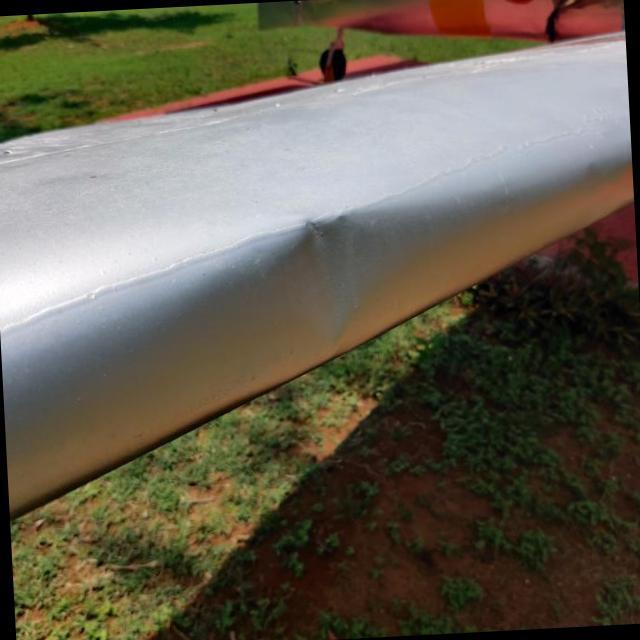dent: (263, 204, 407, 370)
